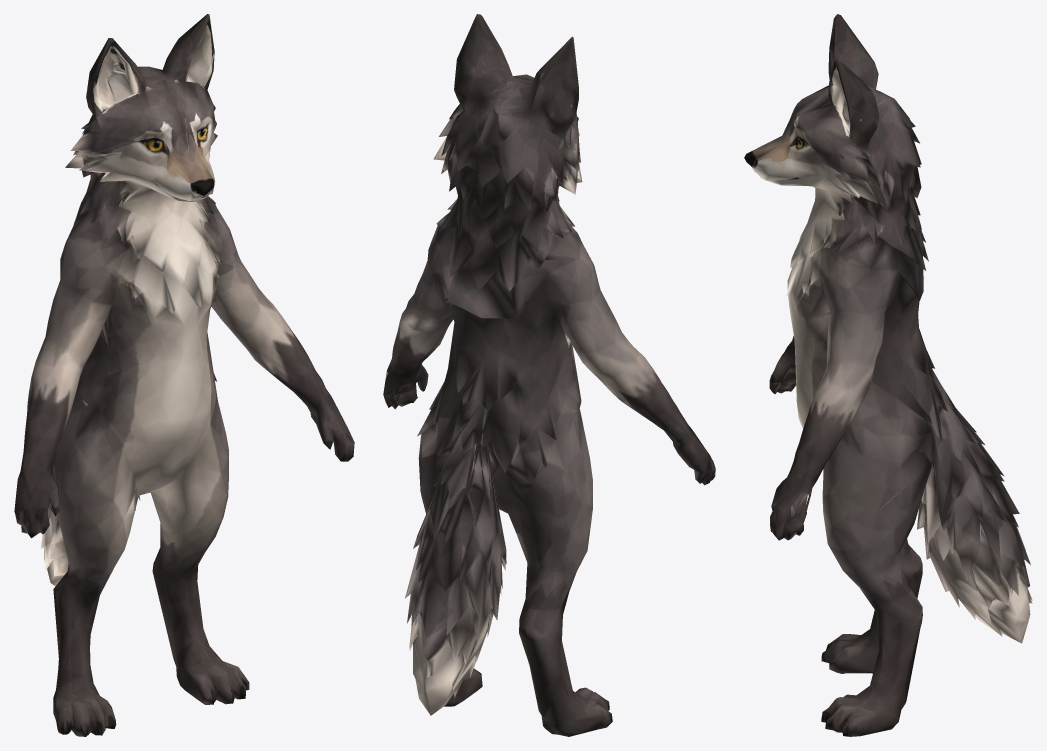
File: wolf-arms.glb
3 views of the same model, side by side, from view 1: azimuth 30°, elevation 25°; view 2: azimuth 150°, elevation 25°; view 3: azimuth 270°, elevation 25° (orthographic). The views are drawn at different scales.
Visible parts, largest first — view 1: wolf; view 2: wolf; view 3: wolf.
Boxes of the visible parts, box(x1,y1,x2,y2) form: wolf: box(14, 14, 354, 736); wolf: box(383, 14, 715, 736); wolf: box(744, 14, 1032, 736).
Size of the model in its own units: 0.9497 by 1.9 by 0.7535.
Materials: 1 (1 with a texture image).
